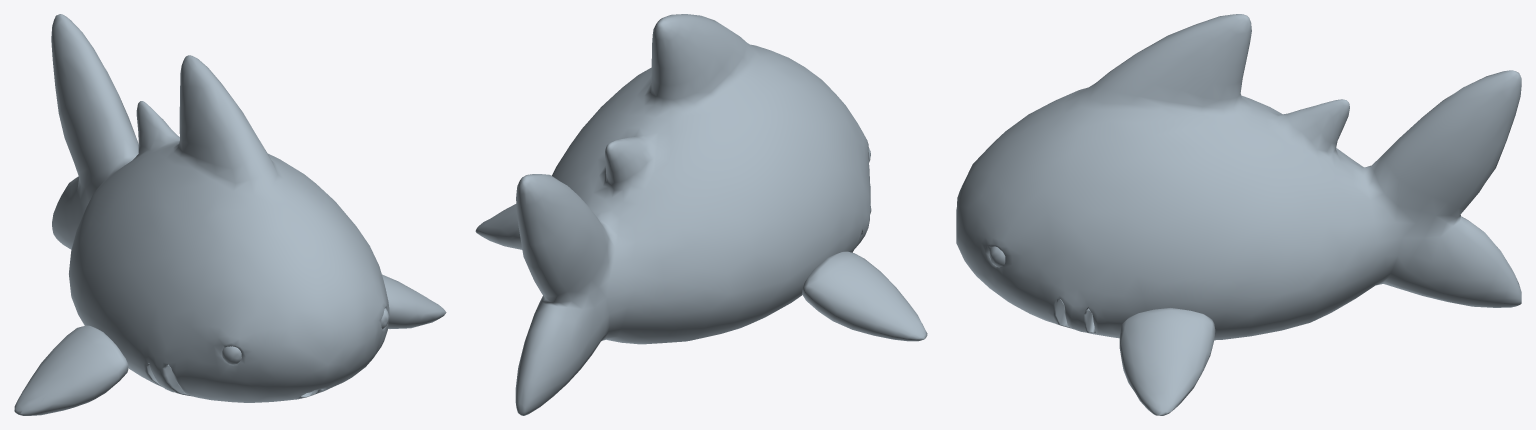
The picture shows the model from 3 angles, left to right: view 1: azimuth 30°, elevation 25°; view 2: azimuth 150°, elevation 25°; view 3: azimuth 270°, elevation 25°; orthographic projection. The views are drawn at different scales.
Size of the model in its own units: 0.9101 by 0.5878 by 1.
